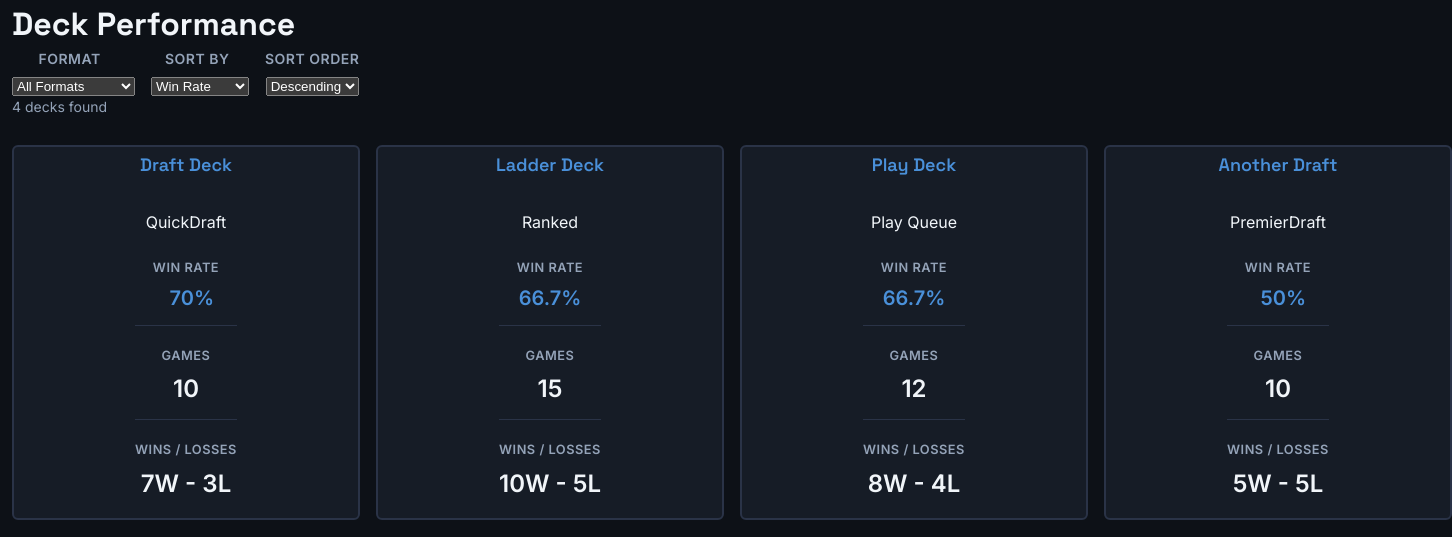
Test: DeckPerformance › Filters › count label updates to filtered count when format filter is applied
Expected: the text "4 decks found" is shown, [12,98,107,115]
Select "Constructed" in the dropdown below "Format" at (74, 86), box [12,77,135,96]
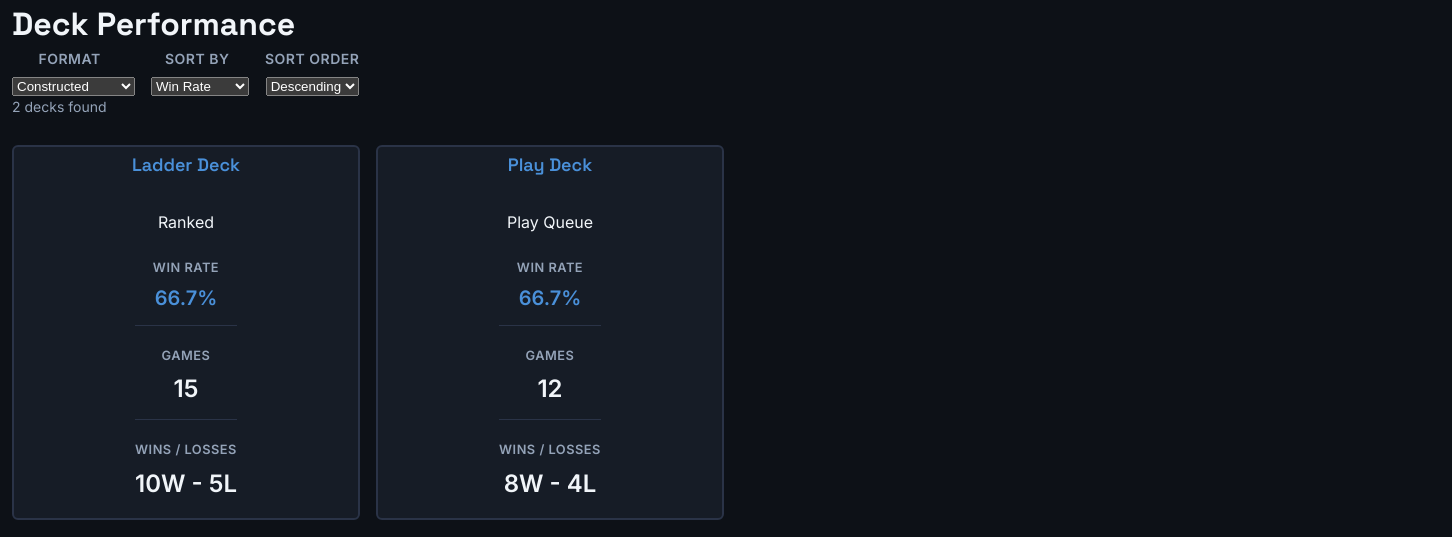
Result: the text "2 decks found" is shown at [12,98,106,115]
